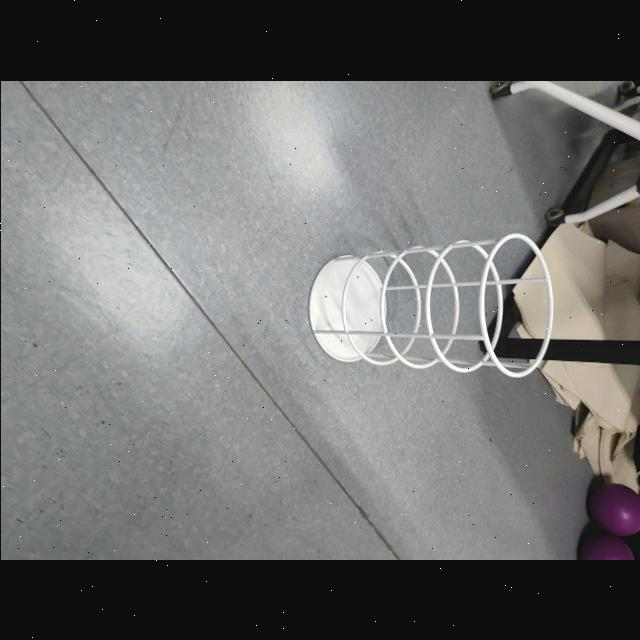S: (304, 232, 554, 382)
